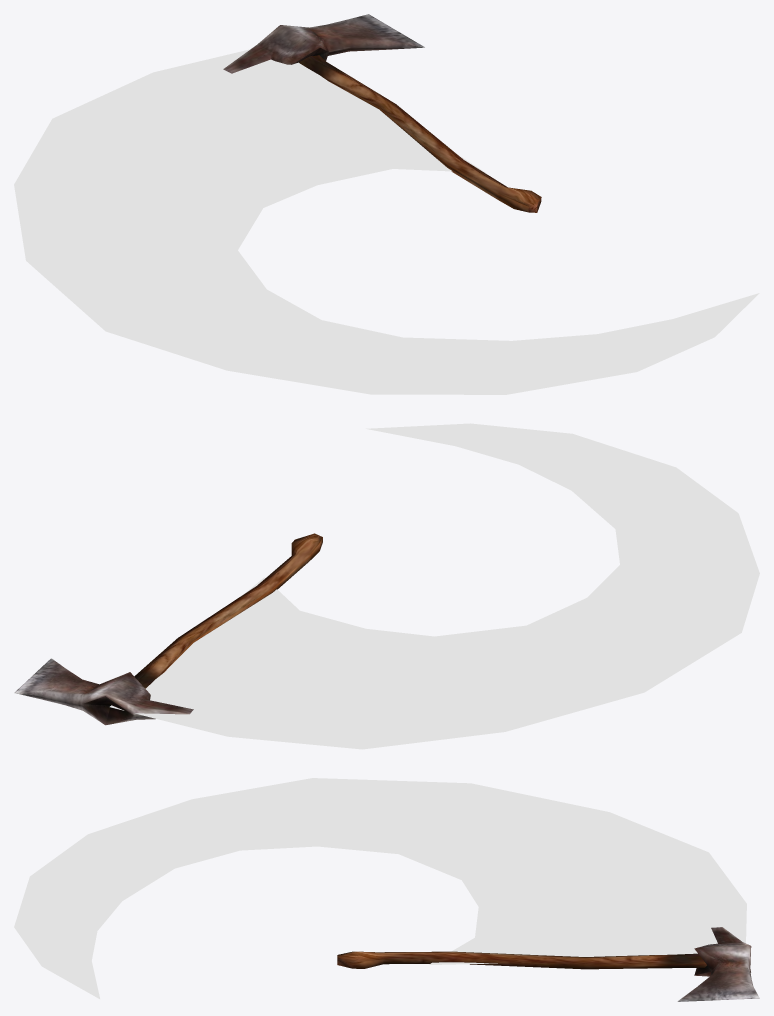
File: axe_high.fbx
3 views of the same model, one above another, from view 1: azimuth 30°, elevation 25°; view 2: azimuth 150°, elevation 25°; view 3: azimuth 270°, elevation 25° (orthographic). The views are drawn at different scales.
Visible parts, largest first — view 1: motion_blur, axehead_mesh, axehandle_mesh; view 2: motion_blur, axehead_mesh, axehandle_mesh; view 3: motion_blur, axehandle_mesh, axehead_mesh.
Part boxes in pixels (x1=…): motion_blur: x1=14, y1=49, x2=759, y2=394; axehead_mesh: x1=223, y1=14, x2=424, y2=73; axehandle_mesh: x1=299, y1=55, x2=541, y2=212; motion_blur: x1=110, y1=423, x2=759, y2=749; axehead_mesh: x1=14, y1=658, x2=193, y2=725; axehandle_mesh: x1=134, y1=533, x2=322, y2=688; motion_blur: x1=14, y1=778, x2=746, y2=998; axehandle_mesh: x1=337, y1=951, x2=706, y2=969; axehead_mesh: x1=677, y1=927, x2=759, y2=1001.
Size of the model in its own units: 398 by 22.58 by 564.
Materials: 2 (2 with a texture image).
